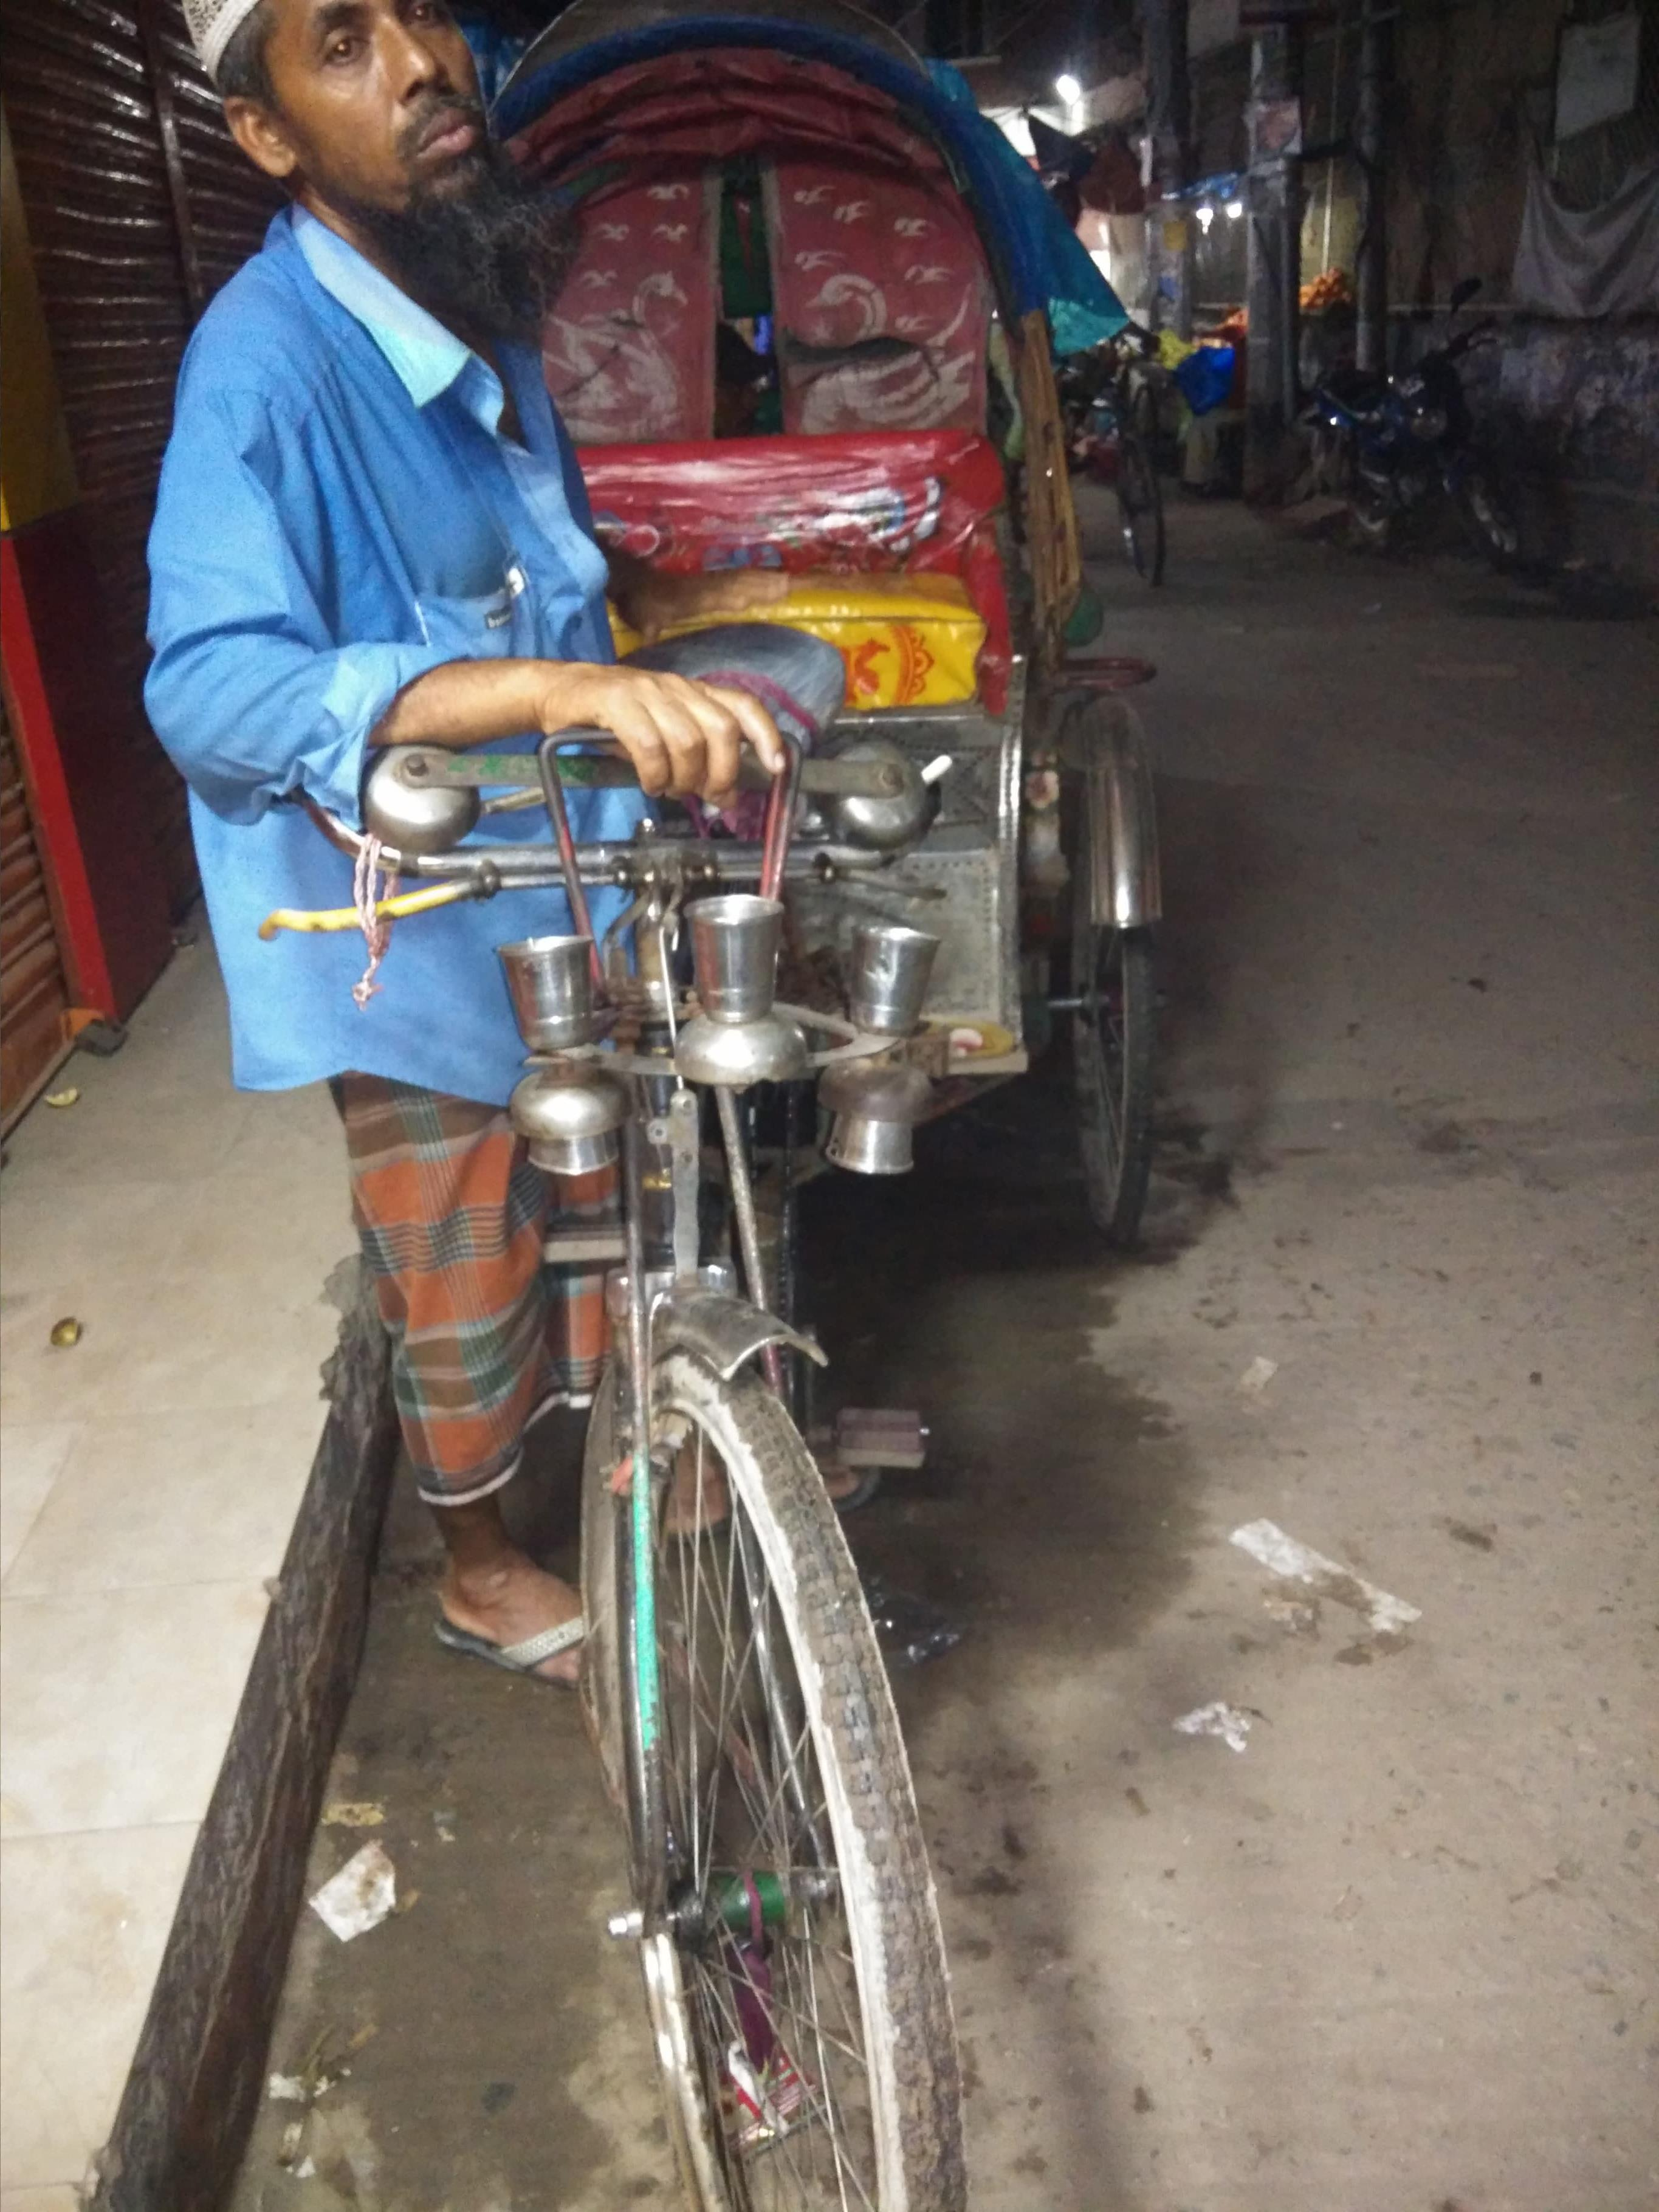Rickshaw: (364, 38, 1176, 2050)
